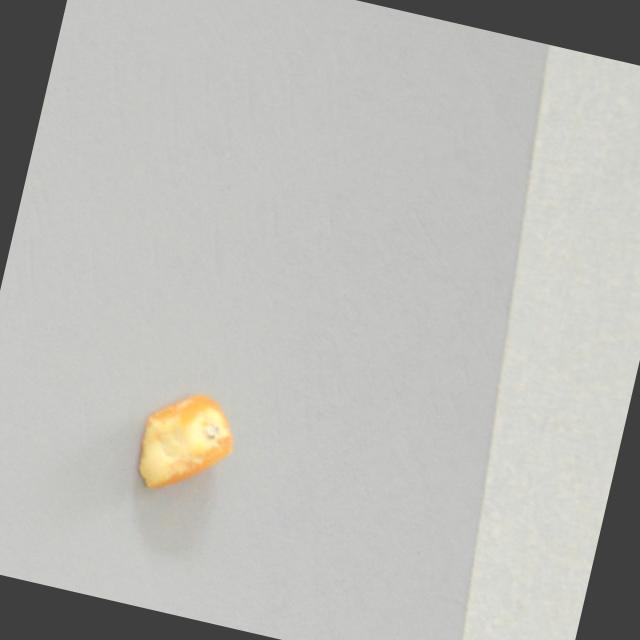punto_negro: (126, 384, 241, 508)
